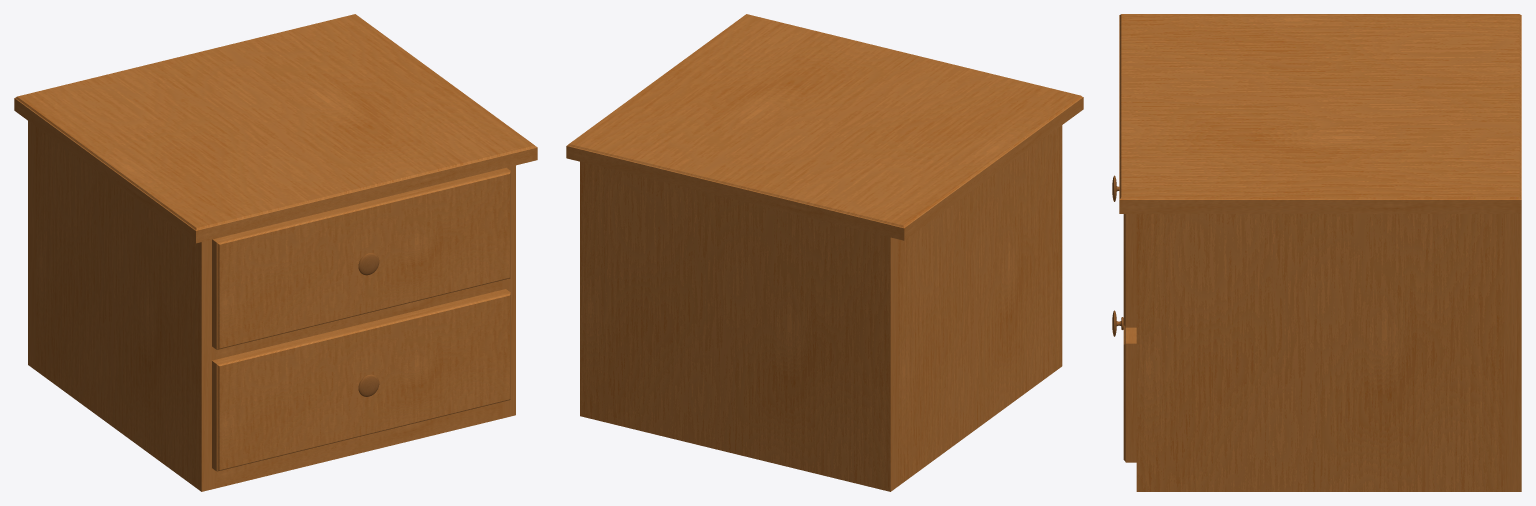
Rendered from nightstand.FBX.
3 views of the same model, side by side, from view 1: azimuth 30°, elevation 25°; view 2: azimuth 150°, elevation 25°; view 3: azimuth 270°, elevation 25° (orthographic). The views are drawn at different scales.
Visible parts, largest first — view 1: nightstand base, bottom drawer, bottom drawer001; view 2: nightstand base; view 3: nightstand base, bottom drawer, bottom drawer001.
Part boxes in pixels (x1=…): nightstand base: x1=14, y1=14, x2=537, y2=491; bottom drawer: x1=212, y1=289, x2=510, y2=471; bottom drawer001: x1=212, y1=167, x2=510, y2=349; nightstand base: x1=566, y1=14, x2=1083, y2=491; nightstand base: x1=1119, y1=14, x2=1521, y2=491; bottom drawer: x1=1123, y1=325, x2=1136, y2=462; bottom drawer001: x1=1123, y1=214, x2=1136, y2=327.
Bounding box in the file's own units: 25 × 19 × 23.4.
Materials: 2 (2 with a texture image).
